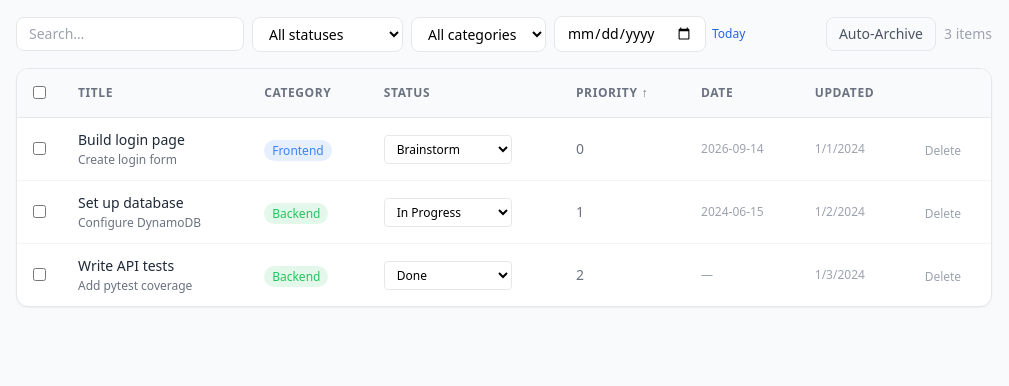
ListView › Clear button deselects everything and hides the bar
What coordinates should you click on to do the following:
click the checkbox named "Select all"
I would click on:
 (40, 92)
Its box is [33, 86, 46, 99].
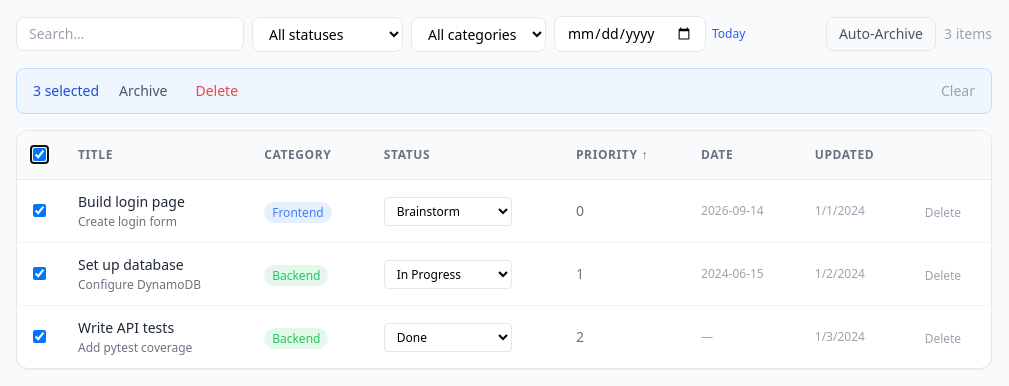
What coordinates should you click on to do the following:
click the button "Clear"
I would click on:
 (958, 91)
Its box is [941, 81, 975, 101].
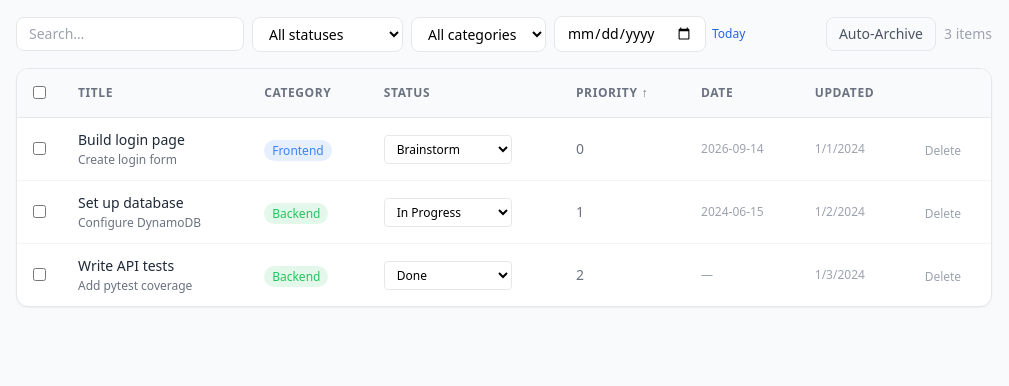
Expected: the element with test id "bulk-action-bar" is gone
